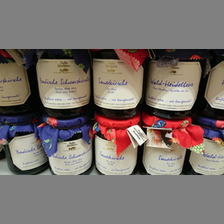jam: (91, 49, 150, 120), (147, 50, 205, 120), (34, 50, 91, 118), (36, 116, 93, 175), (142, 113, 194, 174), (92, 115, 143, 175), (1, 116, 49, 175), (1, 50, 37, 115), (189, 116, 222, 174)
